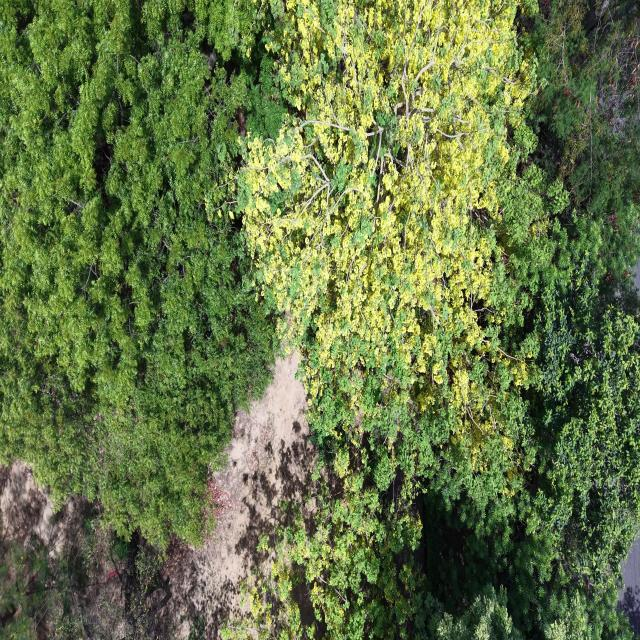DRY_AREA: (158, 354, 315, 639), (162, 354, 315, 639), (168, 354, 314, 638), (171, 354, 314, 638), (200, 355, 313, 637), (0, 461, 128, 639), (0, 462, 85, 554), (0, 462, 53, 543), (619, 535, 639, 636), (619, 538, 639, 636), (634, 260, 639, 290)
VEGETATION_TREE: (0, 0, 639, 639), (239, 2, 639, 638), (238, 0, 551, 499), (0, 0, 280, 543), (0, 504, 181, 639), (0, 540, 57, 639)
